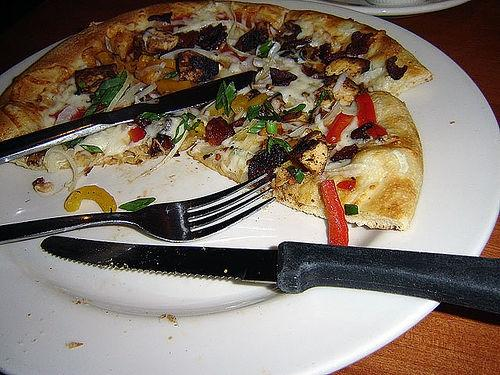bell pepper: (321, 180, 349, 246), (353, 94, 387, 140), (64, 186, 118, 212), (326, 112, 354, 144), (232, 94, 268, 115), (128, 125, 147, 143), (217, 40, 232, 54), (336, 180, 356, 190), (72, 109, 86, 121), (344, 204, 358, 216), (188, 130, 202, 138)
onion: (215, 1, 251, 57), (94, 82, 158, 113), (44, 148, 78, 180), (172, 20, 248, 34), (106, 75, 132, 112), (230, 118, 258, 151), (160, 48, 218, 62), (351, 68, 387, 88), (116, 82, 147, 105), (54, 105, 79, 126), (322, 100, 342, 121), (392, 150, 409, 174), (324, 159, 352, 171), (333, 72, 348, 92), (139, 66, 164, 78), (151, 62, 166, 82), (339, 101, 358, 115), (315, 114, 328, 132), (268, 42, 280, 60), (252, 57, 270, 67), (263, 63, 276, 75), (259, 41, 273, 52), (106, 36, 112, 53), (125, 85, 135, 95)
